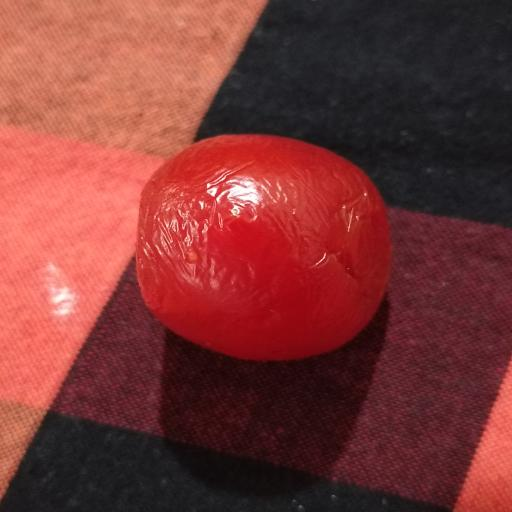spoiled: (137, 135, 391, 360)
